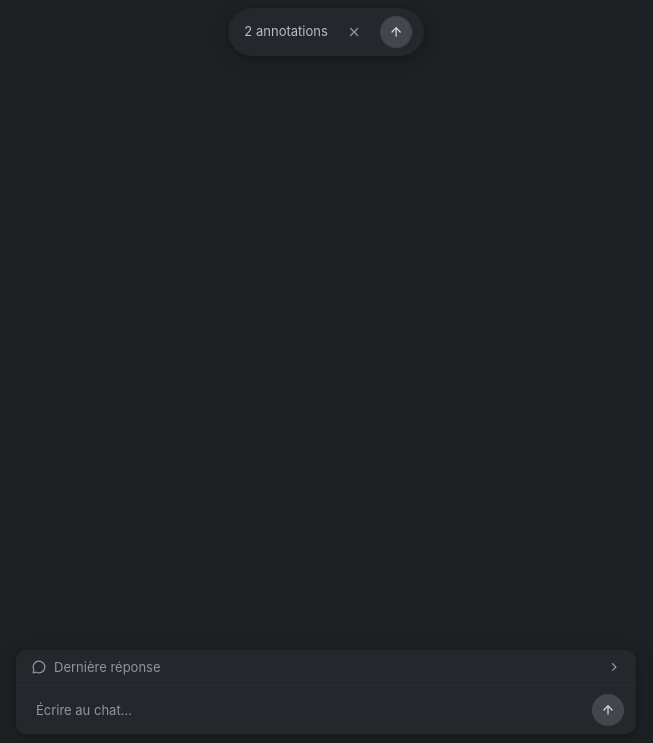
it: keeps response collapsed until requested and follows the active conversation
Click the button "Dernière réponse": (107, 666) x1=16 y1=650 x2=636 y2=686
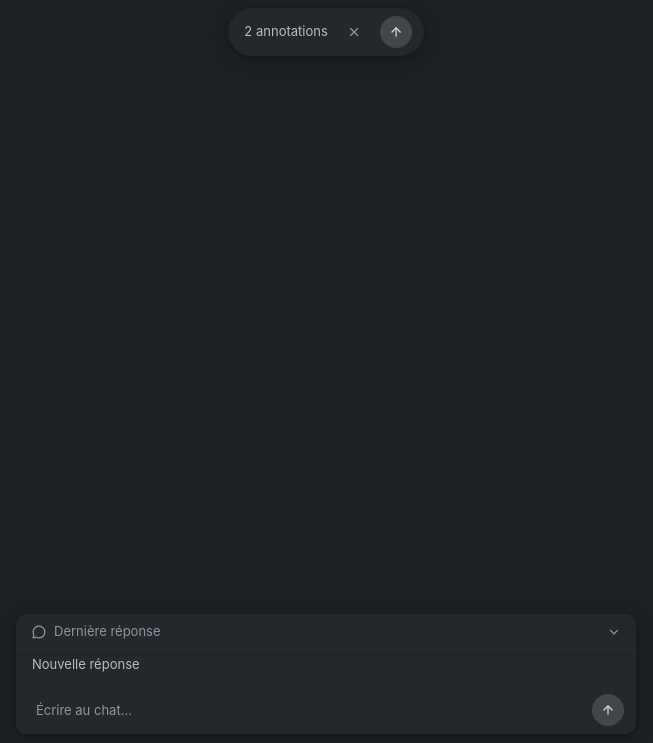
Check: the text "Nouvelle réponse" is shown, box x1=32 y1=656 x2=140 y2=672
